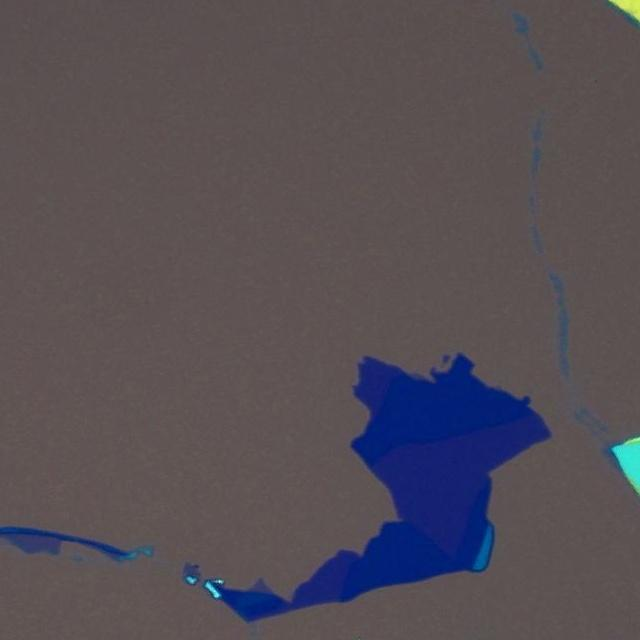monolayer-eWW4: (10, 532, 63, 558)
